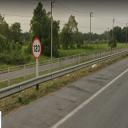speed_limit_120: (30, 38, 44, 59)
